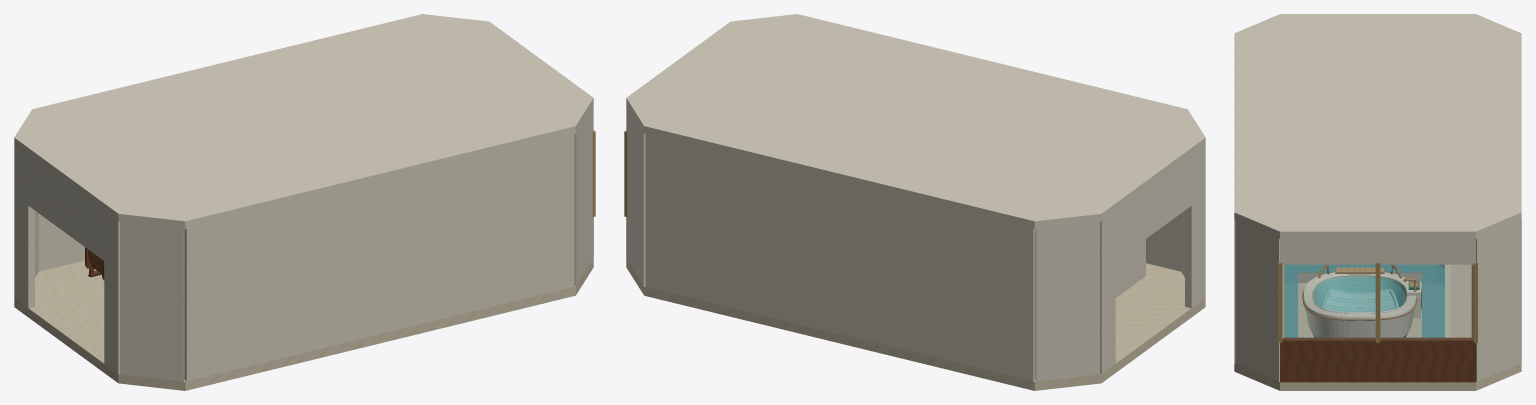
The model's file is D04_PORT_AFT_HOME_966_r001.glb.
3 views of the same model, side by side, from view 1: azimuth 30°, elevation 25°; view 2: azimuth 150°, elevation 25°; view 3: azimuth 270°, elevation 25° (orthographic). The views are drawn at different scales.
Visible parts, largest first — view 1: PA966_D04SH967_Roof, PA966_D04SH967_Shell_7, PA966_D04SH967_Floor, PA966_D04SH967_Shell_0, PA966_D04SH967_EntryHeader, PA966_D04SH967_Shell_6, PA966_D04SH967_EntryWall_1, PA966_D04SH967_EntryWall_0, PA966_D04SH967_Shell_3; view 2: PA966_D04SH967_Roof, PA966_D04SH967_Shell_3, PA966_D04SH967_Floor, PA966_D04SH967_Shell_2, PA966_D04SH967_EntryHeader, PA966_D04SH967_Shell_4, PA966_D04SH967_EntryWall_0, PA966_D04SH967_EntryWall_1, PA966_D04SH967_Shell_7, PA966_D04SH967_BathDogleg; view 3: PA966_D04SH967_Roof, PA966_D04SH967_GardenGlass, PA966_D04SH967_GardenDado, PA966_D04SH967_Shell_4, PA966_D04SH967_Shell_6, PA966_D04SH967_GardenHead, PA966_D04SH967_Floor, PA966_ReservedAquaticRest__Hollow continuous basin shell wit, PA966_D04SH967_Water_0, PA966_ReservedAquaticRest__WaterSurface_VisualOnly, PA966_ReservedAquaticRest__Contoured broad immersed rest sup, PA966_D04SH967_AquaticBasinRim (+8 smaller).
Boxes of the visible parts, left/top/right/bottom form: PA966_D04SH967_Roof: left=14, top=14, right=593, bottom=228; PA966_D04SH967_Shell_7: left=184, top=134, right=574, bottom=381; PA966_D04SH967_Floor: left=14, top=258, right=593, bottom=390; PA966_D04SH967_Shell_0: left=120, top=221, right=184, bottom=381; PA966_D04SH967_EntryHeader: left=28, top=156, right=104, bottom=260; PA966_D04SH967_Shell_6: left=574, top=106, right=593, bottom=285; PA966_D04SH967_EntryWall_1: left=14, top=145, right=34, bottom=308; PA966_D04SH967_EntryWall_0: left=104, top=211, right=119, bottom=373; PA966_D04SH967_Shell_3: left=38, top=213, right=84, bottom=271; PA966_D04SH967_Roof: left=626, top=14, right=1205, bottom=228; PA966_D04SH967_Shell_3: left=645, top=134, right=1035, bottom=381; PA966_D04SH967_Floor: left=626, top=258, right=1205, bottom=390; PA966_D04SH967_Shell_2: left=1035, top=221, right=1099, bottom=381; PA966_D04SH967_EntryHeader: left=1115, top=156, right=1191, bottom=260; PA966_D04SH967_Shell_4: left=626, top=106, right=645, bottom=285; PA966_D04SH967_EntryWall_0: left=1185, top=145, right=1205, bottom=308; PA966_D04SH967_EntryWall_1: left=1100, top=211, right=1115, bottom=373; PA966_D04SH967_Shell_7: left=1146, top=213, right=1181, bottom=271; PA966_D04SH967_BathDogleg: left=1115, top=239, right=1145, bottom=297; PA966_D04SH967_Roof: left=1234, top=14, right=1521, bottom=238; PA966_D04SH967_GardenGlass: left=1284, top=265, right=1472, bottom=339; PA966_D04SH967_GardenDado: left=1280, top=337, right=1475, bottom=382; PA966_D04SH967_Shell_4: left=1471, top=220, right=1520, bottom=381; PA966_D04SH967_Shell_6: left=1235, top=220, right=1284, bottom=381; PA966_D04SH967_GardenHead: left=1280, top=239, right=1475, bottom=264; PA966_D04SH967_Floor: left=1234, top=264, right=1521, bottom=390; PA966_ReservedAquaticRest__Hollow continuous basin shell wit: left=1303, top=272, right=1416, bottom=337; PA966_D04SH967_Water_0: left=1284, top=264, right=1444, bottom=337; PA966_ReservedAquaticRest__WaterSurface_VisualOnly: left=1315, top=278, right=1405, bottom=312; PA966_ReservedAquaticRest__Contoured broad immersed rest sup: left=1324, top=289, right=1395, bottom=312; PA966_D04SH967_AquaticBasinRim: left=1298, top=264, right=1450, bottom=337.
Bounding box in the file's own units: 12.93 × 4.4 × 7.2.
Materials: 40 (21 with a texture image).
